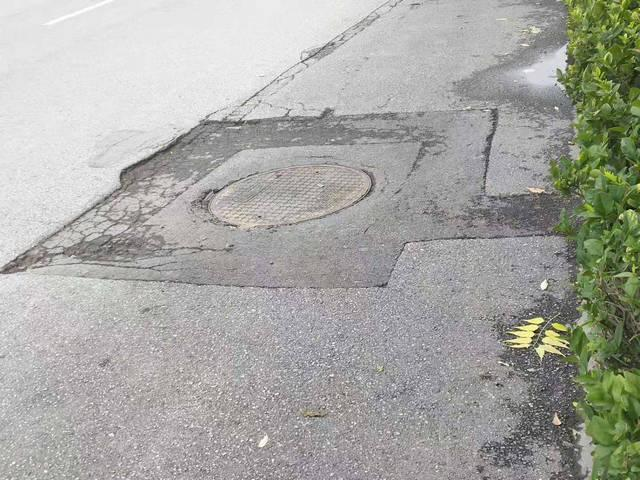circle: (80, 127, 484, 283)
